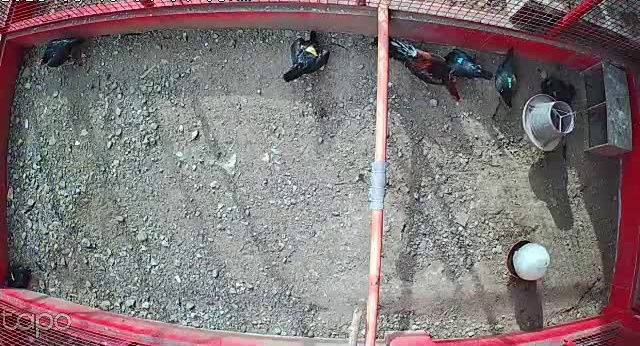Chicken: (282, 30, 336, 82), (492, 44, 524, 112), (442, 49, 495, 84), (536, 65, 578, 108), (36, 35, 84, 71), (3, 261, 36, 290)
Rooster: (373, 34, 459, 104)
Saddle_Color_Blue: (457, 57, 463, 64)
Saddle_Color_Yellow: (301, 42, 320, 54)
